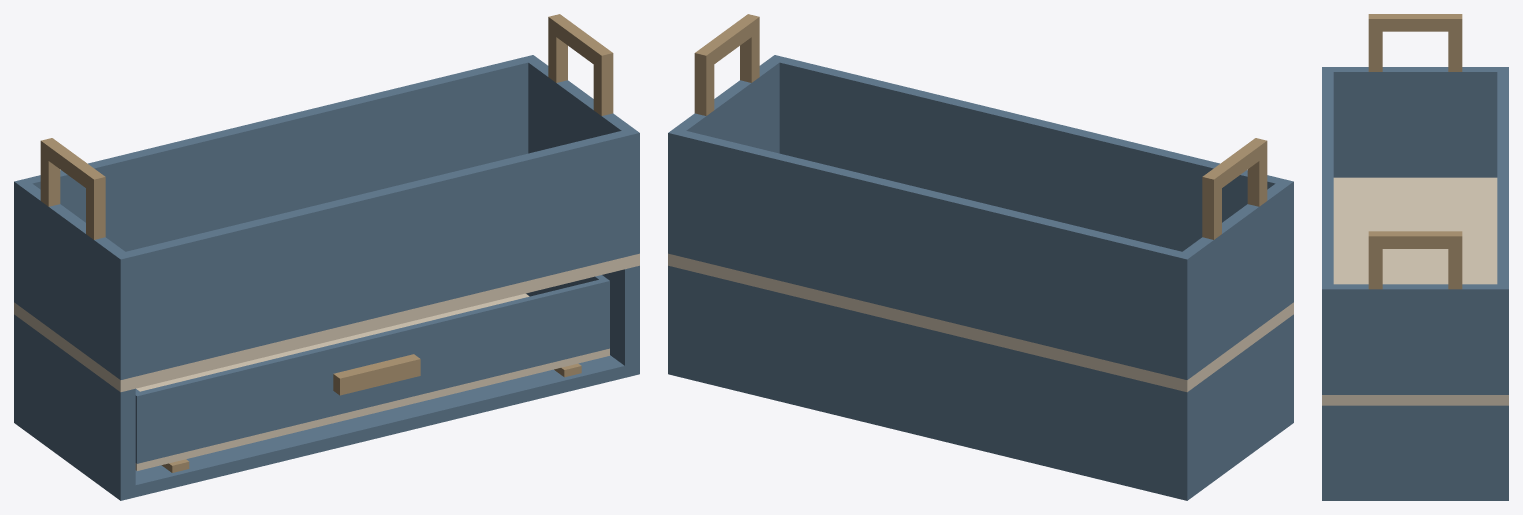
The picture shows the model from 3 angles, left to right: view 1: azimuth 30°, elevation 25°; view 2: azimuth 150°, elevation 25°; view 3: azimuth 270°, elevation 25°; orthographic projection. The views are drawn at different scales.
Visible parts, largest first — view 1: storage-upper-front, storage-upper-back, storage-drawer-front, storage-upper-left, storage-base, storage-side-left, storage-roof, storage-upper-right, storage-drawer-bottom, storage-side-right, storage-drawer-handle, storage-case-handle-right-front (+6 smaller); view 2: storage-upper-back, storage-back, storage-upper-front, storage-upper-left, storage-side-left, storage-base, storage-roof, storage-upper-right, storage-side-right, storage-case-handle-right-rear, storage-case-handle-left-rear, storage-case-handle-left-front (+3 smaller); view 3: storage-upper-right, storage-upper-left, storage-roof, storage-side-right, storage-upper-back, storage-upper-front, storage-base, storage-case-handle-left-grip, storage-case-handle-right-grip, storage-case-handle-right-rear, storage-case-handle-right-front, storage-case-handle-left-rear (+1 smaller).
Part boxes in pixels (box(x1,y1,x2,y2)): storage-upper-front: box(126, 131, 628, 377); storage-upper-back: box(26, 57, 528, 251); storage-drawer-front: box(140, 280, 603, 461); storage-upper-left: box(14, 178, 132, 379); storage-base: box(14, 355, 639, 500); storage-side-left: box(14, 314, 135, 488); storage-roof: box(14, 253, 639, 392); storage-upper-right: box(522, 55, 639, 256); storage-drawer-bottom: box(135, 293, 609, 470); storage-side-right: box(602, 265, 639, 365); storage-drawer-handle: box(333, 354, 420, 395); storage-case-handle-right-front: box(593, 47, 613, 115); storage-upper-back: box(679, 131, 1181, 377); storage-back: box(683, 269, 1172, 484); storage-upper-front: box(779, 57, 1281, 251); storage-upper-left: box(1175, 178, 1293, 379); storage-side-left: box(1172, 314, 1293, 488); storage-base: box(668, 362, 1293, 500); storage-roof: box(668, 253, 1293, 392); storage-upper-right: box(668, 55, 785, 256); storage-side-right: box(668, 265, 682, 365); storage-case-handle-right-rear: box(694, 47, 714, 115); storage-case-handle-left-rear: box(1202, 171, 1221, 239); storage-case-handle-left-front: box(1247, 138, 1267, 206); storage-upper-right: box(1322, 284, 1508, 394); storage-upper-left: box(1322, 67, 1508, 177); storage-roof: box(1322, 177, 1508, 405); storage-side-right: box(1322, 405, 1508, 490); storage-upper-back: box(1497, 72, 1508, 284); storage-upper-front: box(1322, 72, 1333, 284); storage-base: box(1322, 490, 1508, 500); storage-case-handle-left-grip: box(1382, 14, 1448, 31); storage-case-handle-right-grip: box(1382, 231, 1448, 248); storage-case-handle-right-rear: box(1448, 231, 1462, 289); storage-case-handle-right-front: box(1368, 231, 1382, 289); storage-case-handle-left-rear: box(1448, 14, 1462, 71).
Size of the model in its own units: 0.45 by 0.25 by 0.16.
